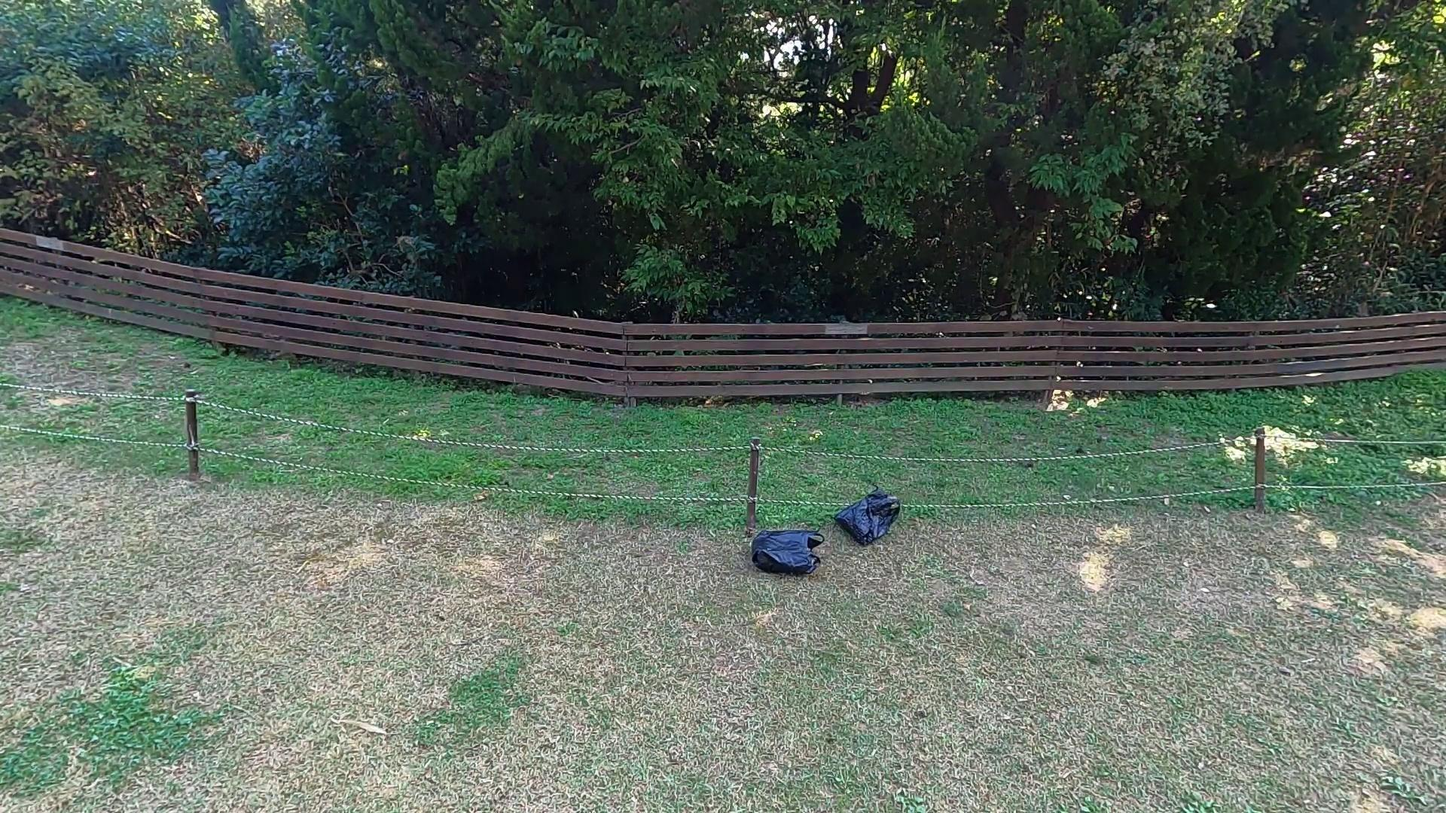trash: (832, 478, 904, 544), (749, 523, 825, 583)
